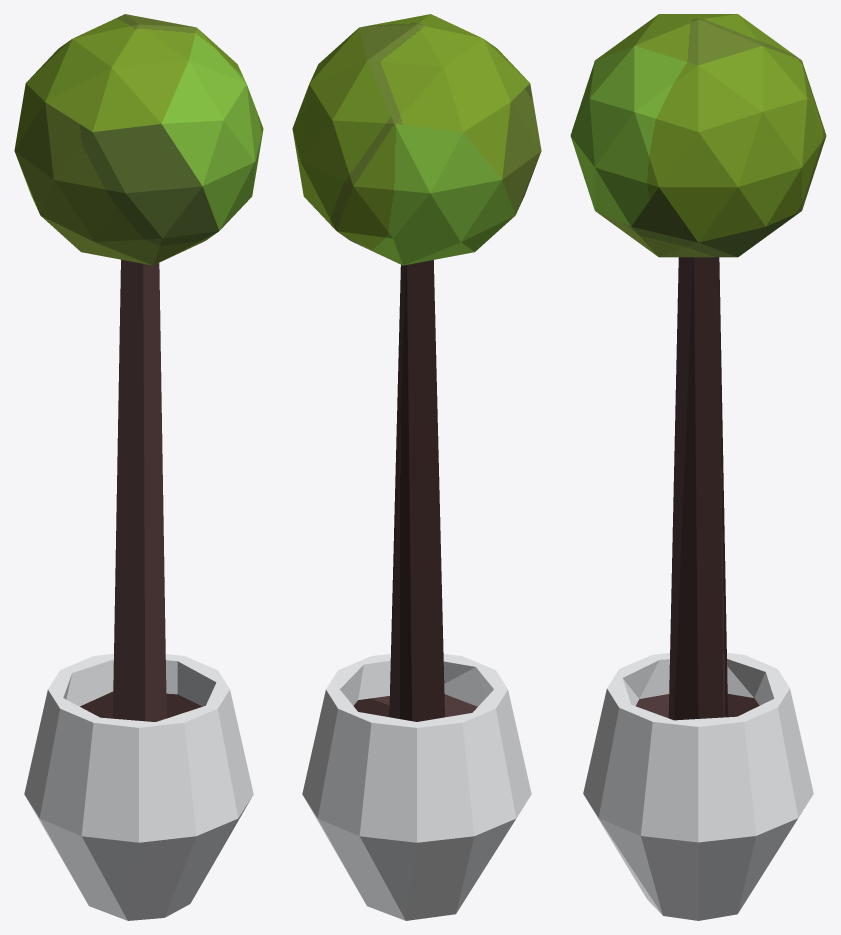
Rendered from Accesories_Plants_E.glb.
The picture shows the model from 3 angles, left to right: view 1: azimuth 30°, elevation 25°; view 2: azimuth 150°, elevation 25°; view 3: azimuth 270°, elevation 25°; orthographic projection.
Visible parts, largest first — view 1: Accesories_Plants_E; view 2: Accesories_Plants_E; view 3: Accesories_Plants_E.
Boxes of the visible parts, bbox=[...] form: Accesories_Plants_E: bbox=[14, 14, 263, 920]; Accesories_Plants_E: bbox=[292, 14, 541, 920]; Accesories_Plants_E: bbox=[570, 14, 826, 920].
Size of the model in its own units: 0.3147 by 1.25 by 0.3309.
1 material, 1 textured.
